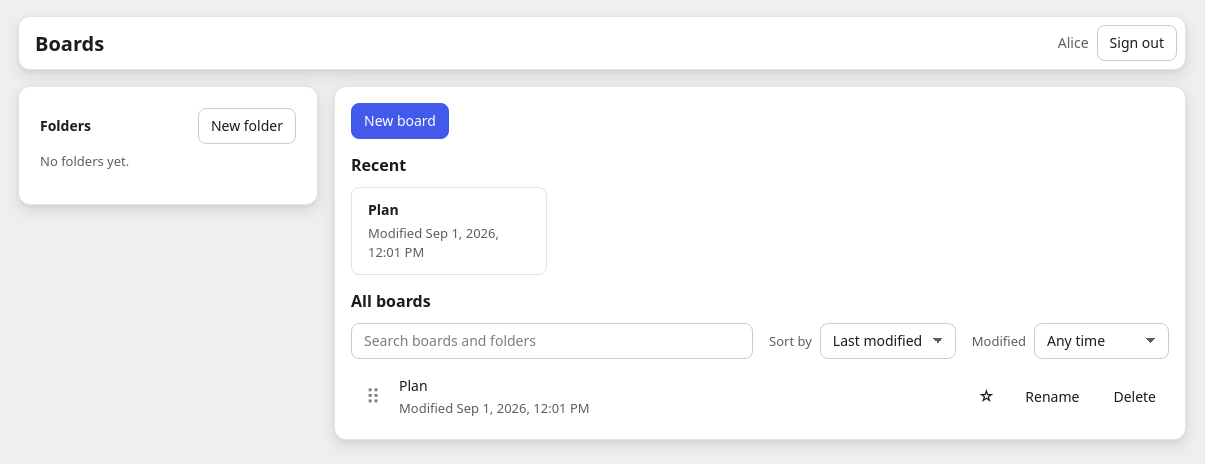
Test: избранное (BRD-07) › доска добавляется в избранное и убирается
The width and height of the screenshot is (1205, 464).
Expected: the list "Favorites" is not shown
Click the button named "Favorite" at (986, 397), box [968,379,1004,415]
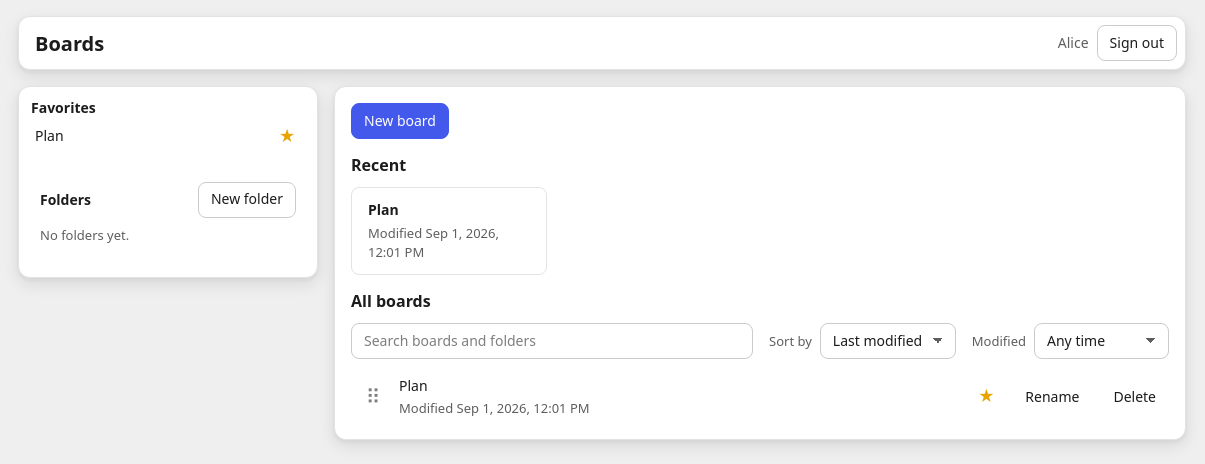
Now the link "Plan" below "Favorites" is shown, box [35,126,64,145]
Click the button named "Favorite" at (287, 136), box [269,118,305,154]
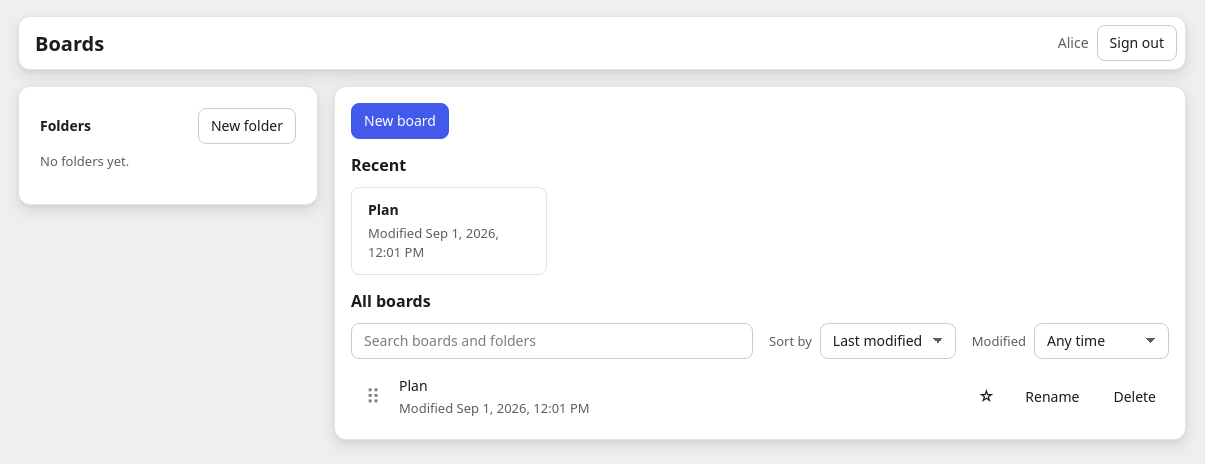
Now the heading "Favorites" is gone
